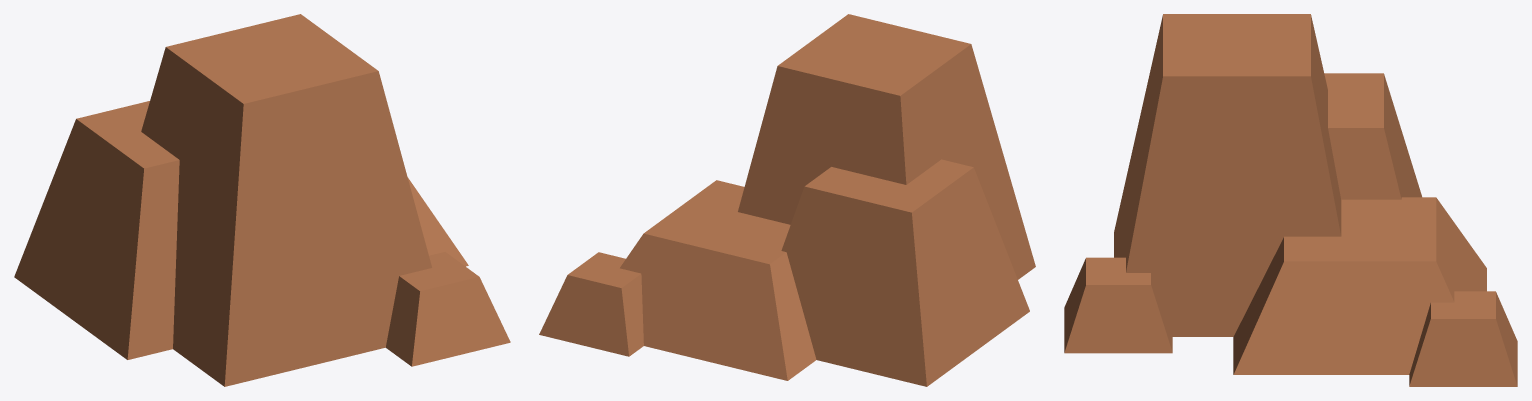
Rendered from rocksSmall.fbx.
The picture shows the model from 3 angles, left to right: view 1: azimuth 30°, elevation 25°; view 2: azimuth 150°, elevation 25°; view 3: azimuth 270°, elevation 25°; orthographic projection. The views are drawn at different scales.
Parts seen in each view (by area): view 1: rocksSmall; view 2: rocksSmall; view 3: rocksSmall.
Boxes of the visible parts, bbox=[...] form: rocksSmall: bbox=[14, 14, 510, 386]; rocksSmall: bbox=[539, 14, 1035, 386]; rocksSmall: bbox=[1064, 14, 1517, 386].
Size of the model in its own units: 6.69 by 4.27 by 7.32.
